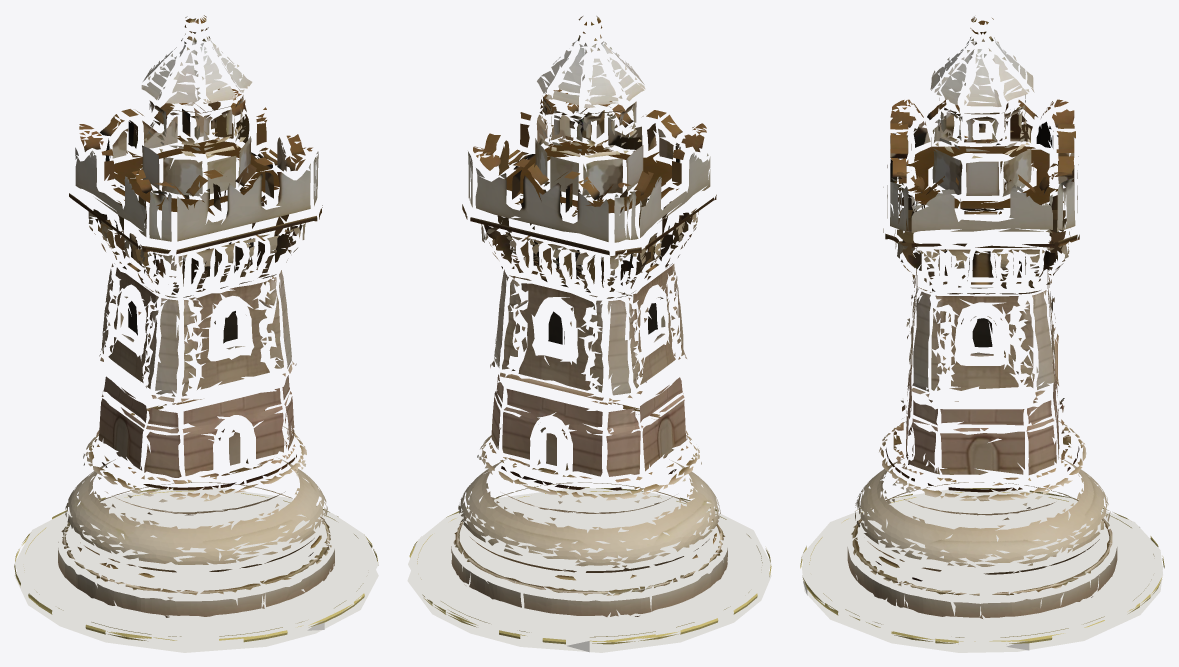
Rendered from rook-classic-torre-10k.glb.
3 renders of one model, left to right at view 1: azimuth 30°, elevation 25°; view 2: azimuth 150°, elevation 25°; view 3: azimuth 270°, elevation 25°, orthographic.
Visible parts, largest first — view 1: tmpia244i8o.ply, FactionPedestal, FactionTrimRing; view 2: tmpia244i8o.ply, FactionPedestal, FactionTrimRing; view 3: tmpia244i8o.ply, FactionPedestal, FactionTrimRing.
Boxes of the visible parts, bbox=[...] form: tmpia244i8o.ply: bbox=[58, 15, 334, 617]; FactionPedestal: bbox=[14, 487, 378, 652]; FactionTrimRing: bbox=[14, 487, 378, 642]; tmpia244i8o.ply: bbox=[451, 16, 727, 616]; FactionPedestal: bbox=[407, 488, 771, 652]; FactionTrimRing: bbox=[409, 487, 771, 644]; tmpia244i8o.ply: bbox=[847, 16, 1117, 618]; FactionPedestal: bbox=[801, 489, 1163, 652]; FactionTrimRing: bbox=[800, 488, 1164, 643].
Size of the model in its own units: 0.7409 by 1.26 by 0.744.
3 materials, 1 textured.
